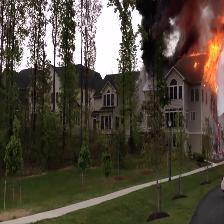fire: (208, 35, 219, 87)
smoke: (140, 0, 204, 63)
